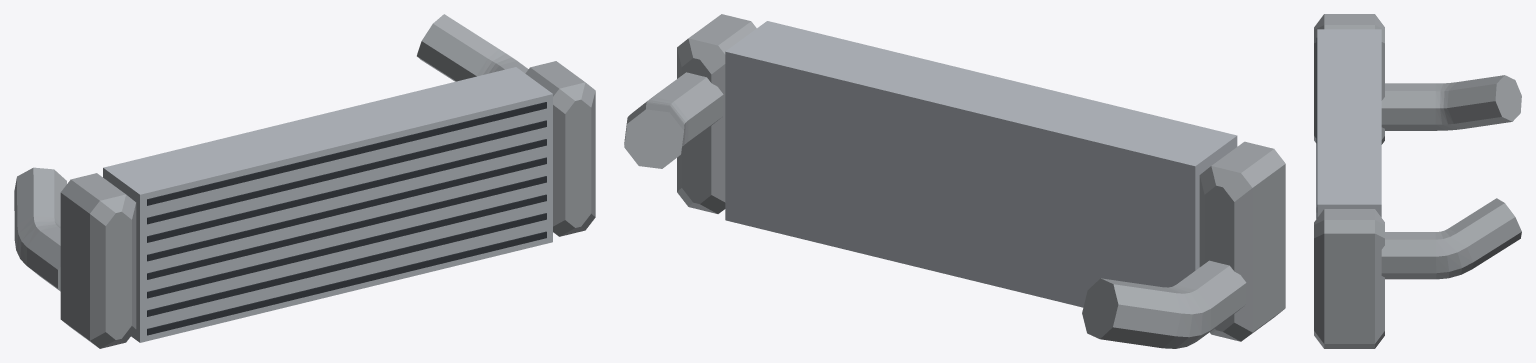
The model's file is hana_roadster.glb.
3 views of the same model, side by side, from view 1: azimuth 30°, elevation 25°; view 2: azimuth 150°, elevation 25°; view 3: azimuth 270°, elevation 25° (orthographic). The views are drawn at different scales.
Visible parts, largest first — view 1: model; view 2: model; view 3: model.
Part boxes in pixels (x1,y1,x2,y2): model: (14,14,595,348); model: (624,14,1285,348); model: (1314,14,1521,348).
Bounding box in the file's own units: 0.6 × 0.1696 × 0.2456.
2 materials, 1 textured.
